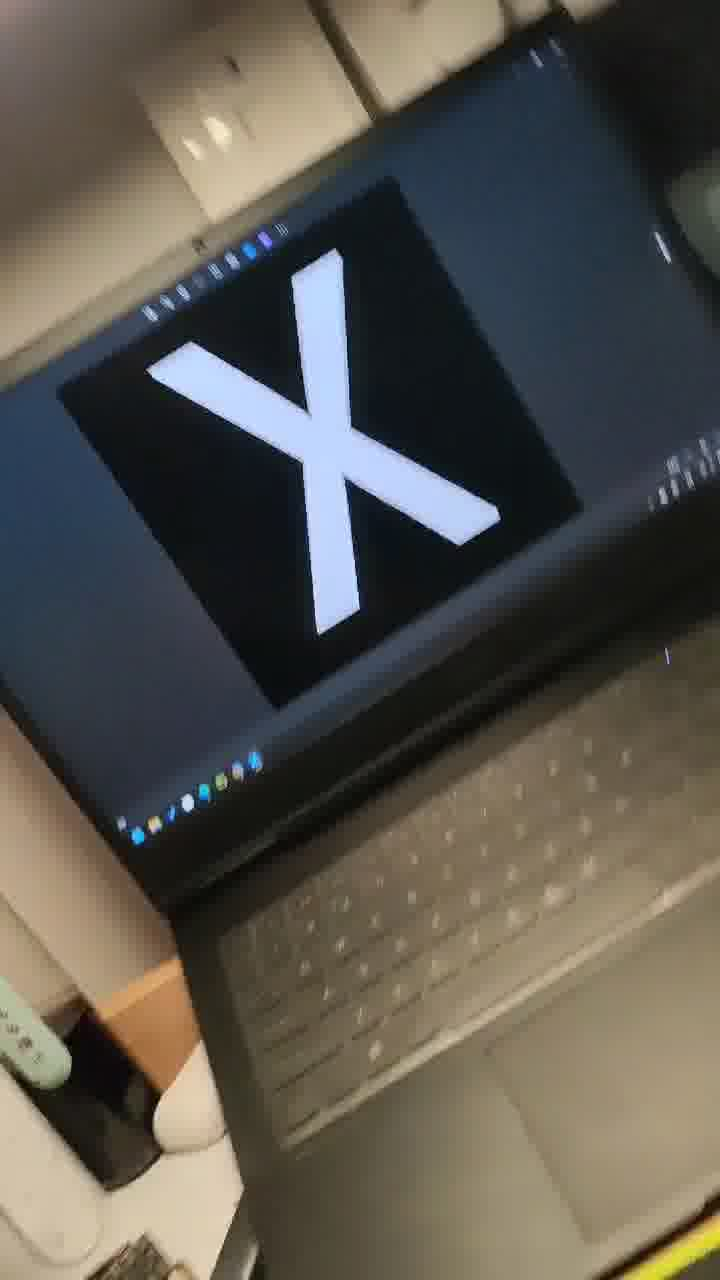X: (126, 171, 518, 655)
